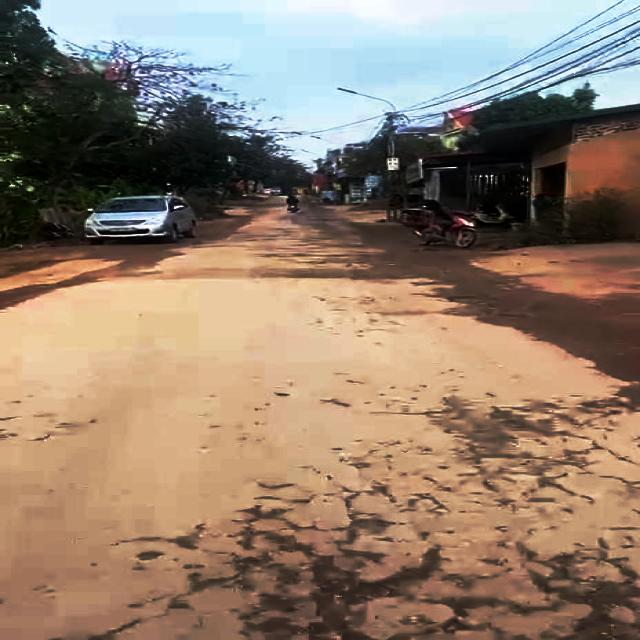pothole: (217, 544, 448, 640), (433, 400, 614, 500), (527, 551, 640, 640)
